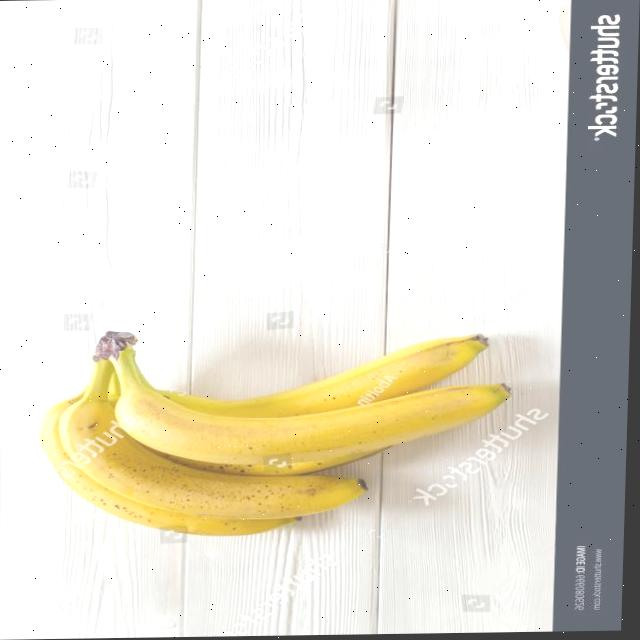banana: (36, 321, 522, 544)
